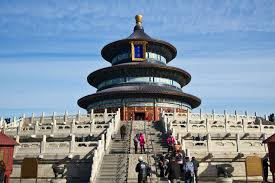Temple: (58, 11, 216, 118)
